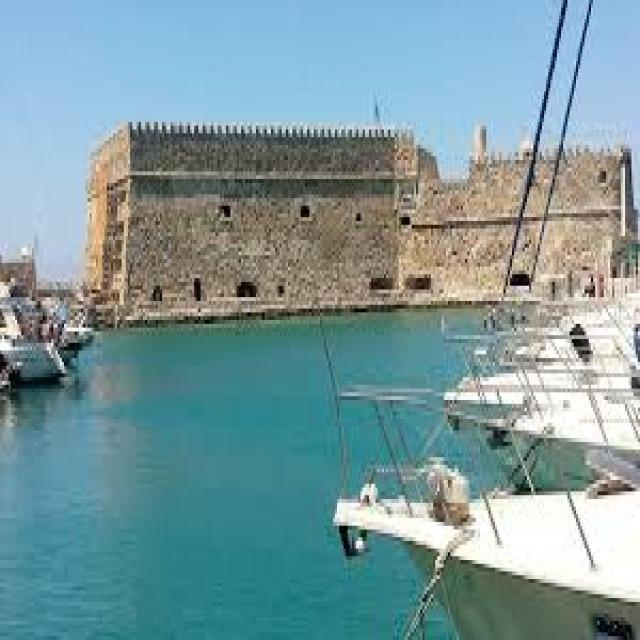Kules: (81, 115, 640, 326)
